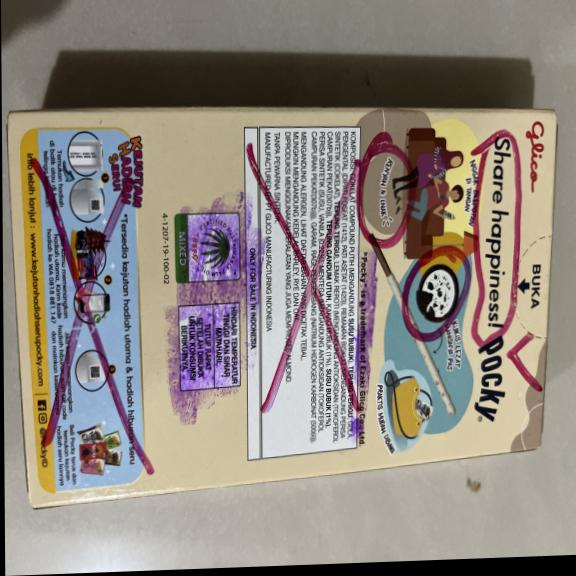Kertas: (5, 88, 555, 512)
